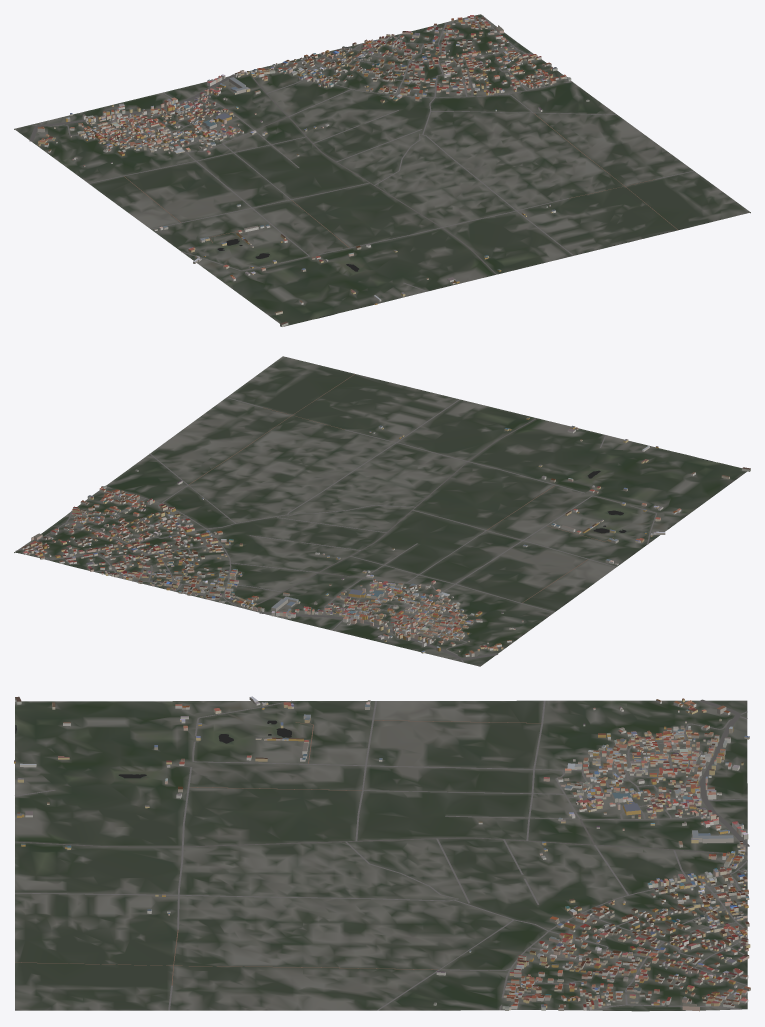
3 renders of one model, top to bottom at view 1: azimuth 30°, elevation 25°; view 2: azimuth 150°, elevation 25°; view 3: azimuth 270°, elevation 25°, orthographic. The views are drawn at different scales.
Visible parts, largest first — view 1: ground, buildings, roads; view 2: ground, buildings, roads; view 3: ground, buildings, roads.
Boxes of the visible parts, x1,y1,x2,y2 form: ground: (14,14,750,326); buildings: (37,15,589,326); roads: (29,15,694,291); ground: (14,356,746,666); buildings: (21,417,750,656); roads: (16,374,656,662); ground: (15,700,747,1011); buildings: (14,696,750,1011); roads: (15,699,749,1010).
Size of the model in its own units: 1415 by 17.8 by 1410.
